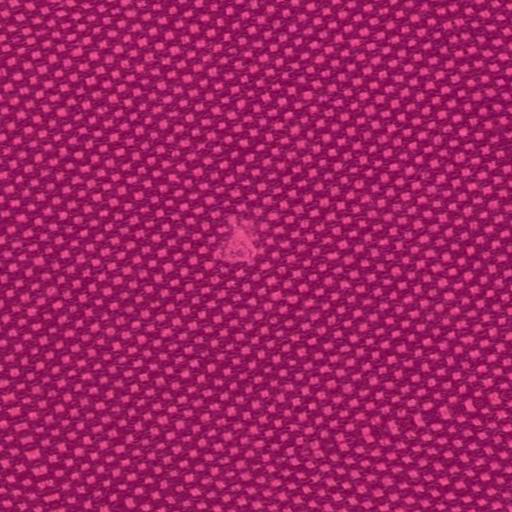knot: (205, 206, 263, 272)
